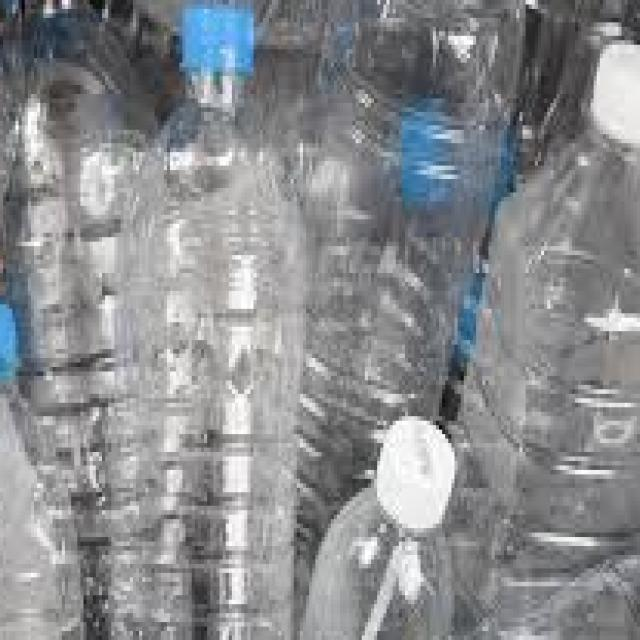organic: (113, 1, 303, 632), (478, 18, 640, 610), (10, 16, 159, 625), (312, 8, 469, 430), (303, 392, 476, 638)
